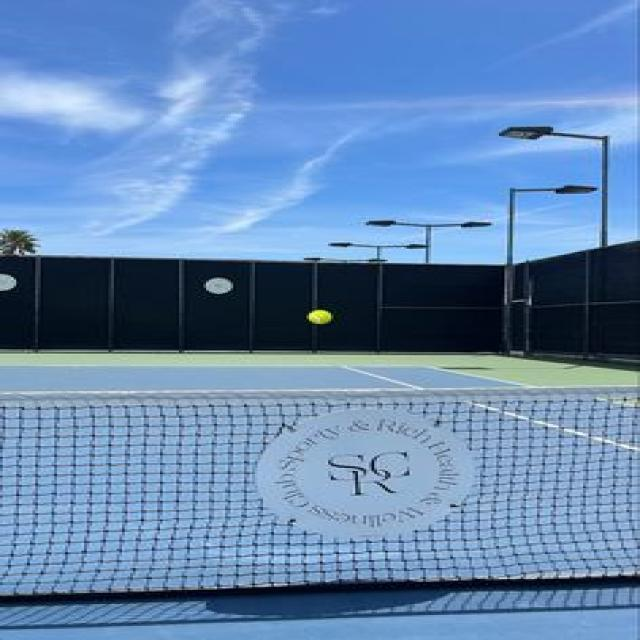tennis: (299, 307, 335, 329)
